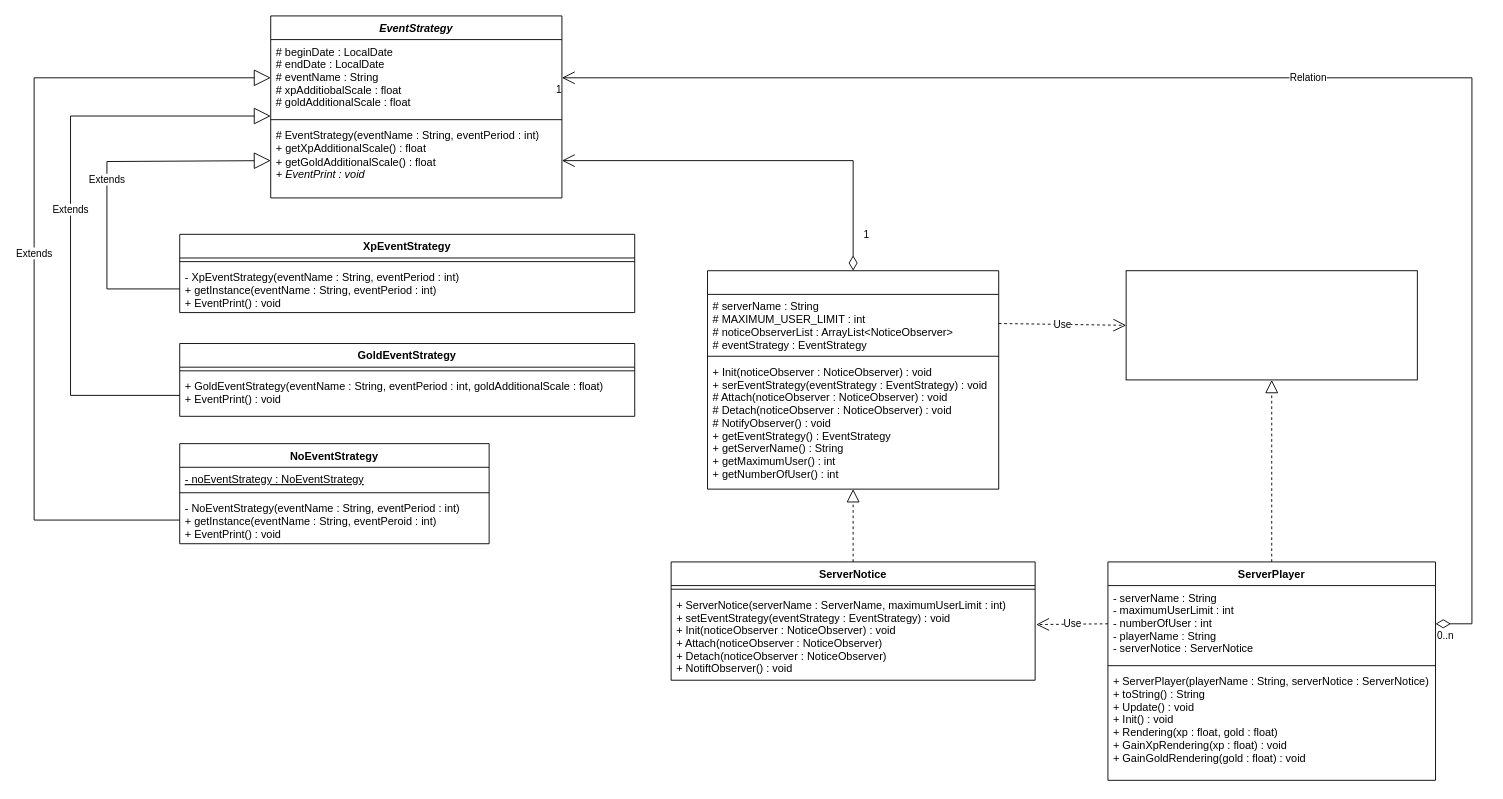
This 1503x799 diagram has some shape labels left out. The shapes that lost their labels are listed below. From the top down, each one's box as (x1, y1, x2, y2) in pixels, then its label:
(1125, 270, 1417, 380): «interface» NoticeObserver Update(eventStrategy : EventStrategy) : void
(707, 270, 999, 489): ServerController
